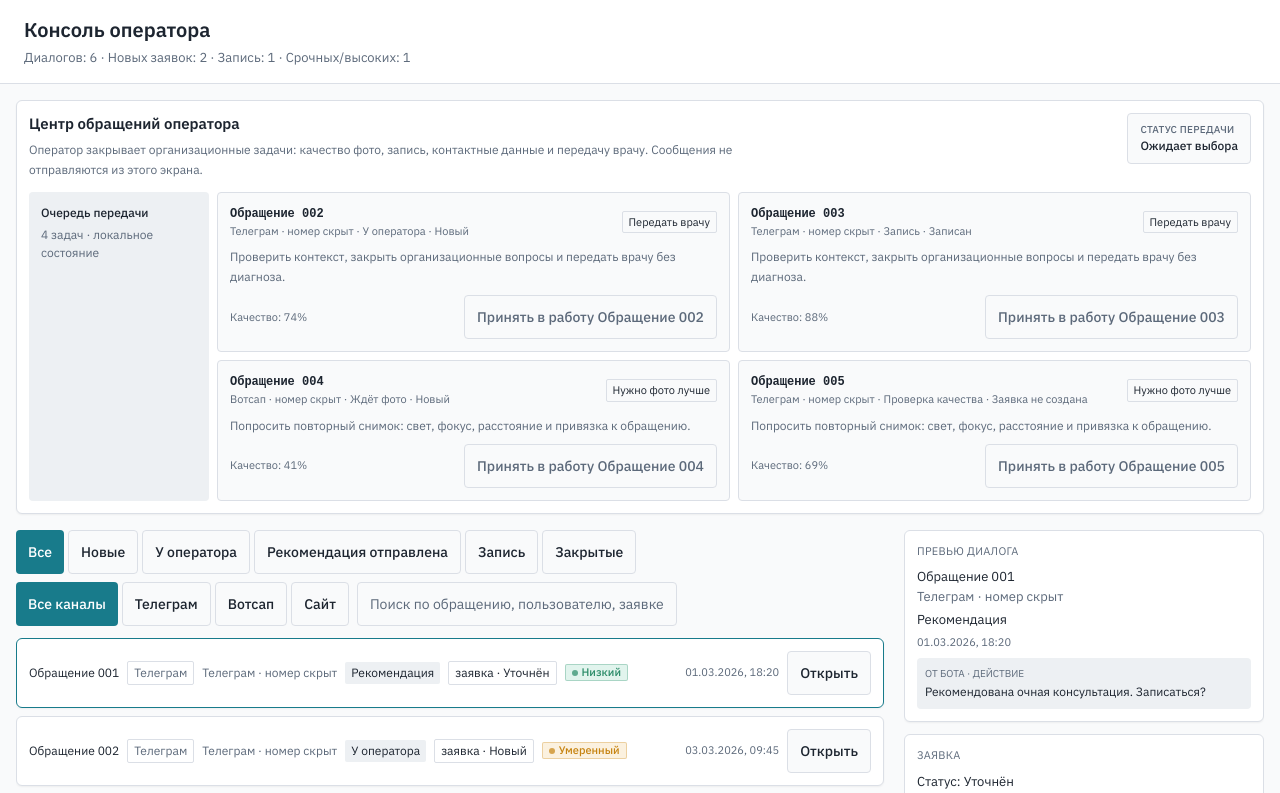
Test: OperatorConsolePage · Batch G operator handoff › lets the operator accept a handoff item into local work state
Click the button "Принять в работу Обращение 002".
click(591, 317)  # box [464, 295, 717, 339]
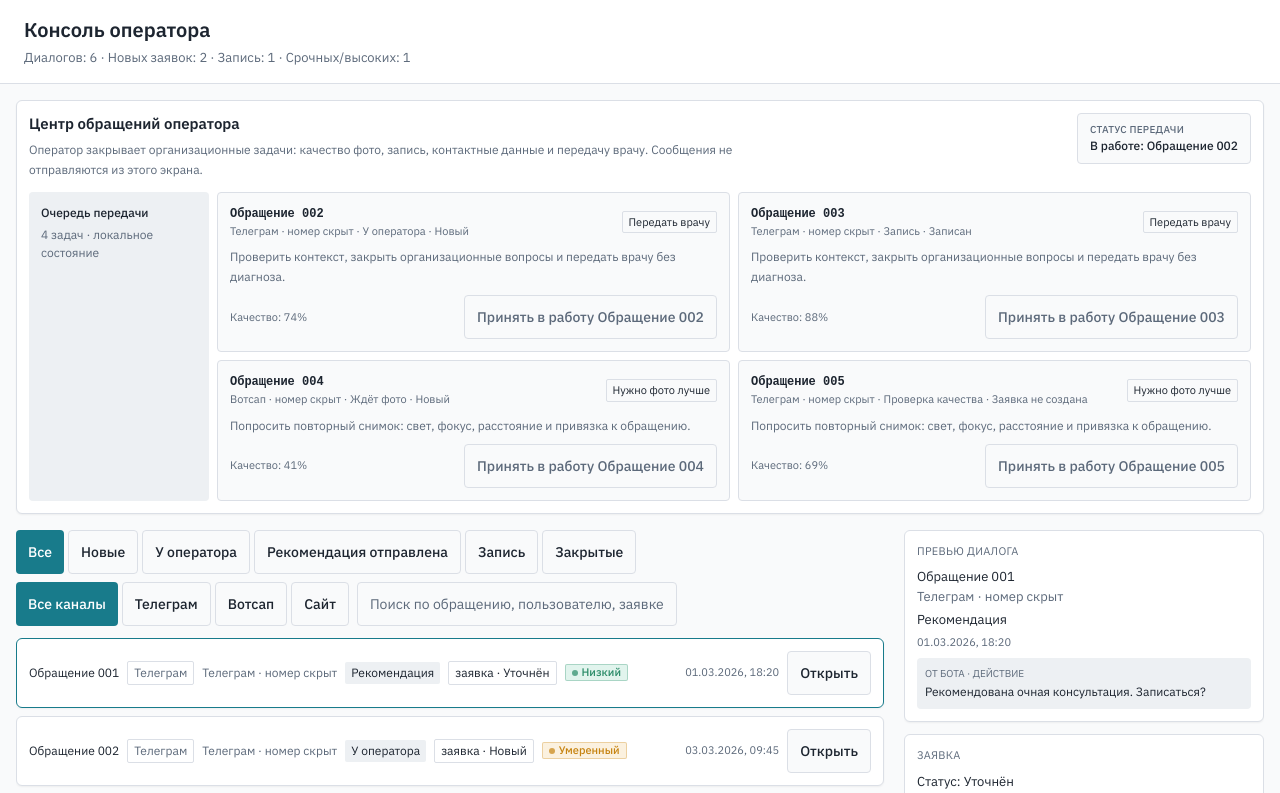
Expected: the message "Статус передачи" shows "В работе: Обращение 002", [1090, 138, 1238, 153]
